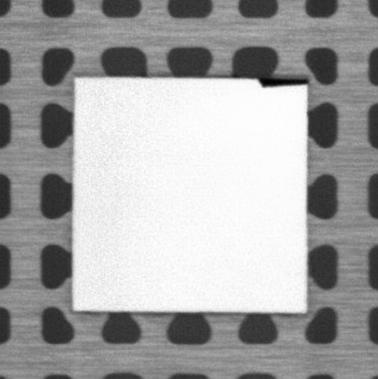DIE_BROKEN: (257, 76, 312, 88)
